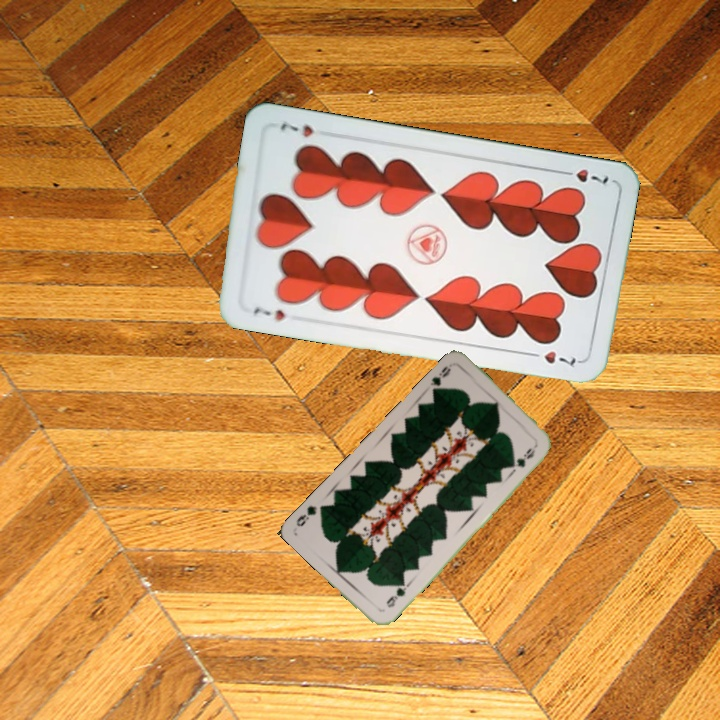G9: (426, 360, 454, 398), (382, 578, 411, 610)
H7: (555, 164, 611, 187), (249, 302, 288, 324)
